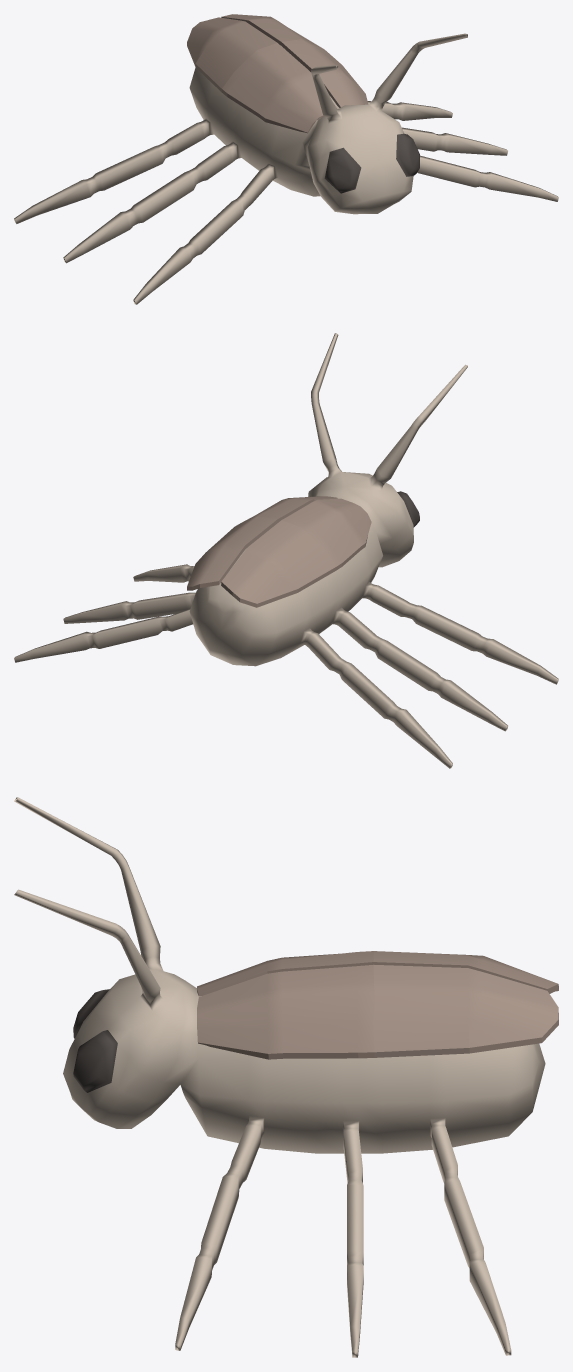
File: Scout_Model_New_SC.fbx
3 views of the same model, one above another, from view 1: azimuth 30°, elevation 25°; view 2: azimuth 150°, elevation 25°; view 3: azimuth 270°, elevation 25° (orthographic). The views are drawn at different scales.
Visible parts, largest first — view 1: Wings10; view 2: Wings10; view 3: Wings10.
Boxes of the visible parts, x1,y1,x2,y2 form: Wings10: [14, 14, 558, 304]; Wings10: [14, 333, 558, 768]; Wings10: [14, 797, 558, 1357].
Size of the model in its own units: 1.32 by 0.6961 by 0.9631.
